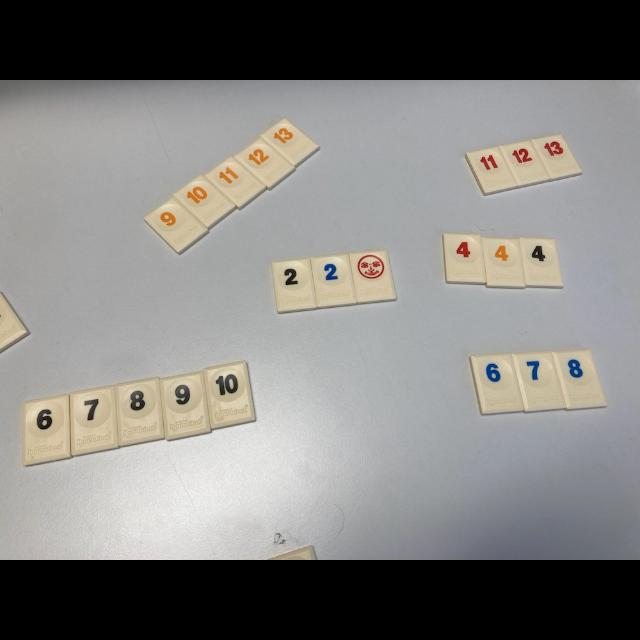black_10: (204, 361, 256, 429)
black_2: (271, 258, 318, 312)
black_4: (519, 238, 564, 288)
black_6: (22, 396, 71, 465)
black_7: (71, 386, 118, 455)
black_8: (115, 378, 163, 446)
black_9: (160, 371, 211, 440)
blue_2: (310, 254, 356, 309)
blue_6: (470, 354, 524, 415)
blue_7: (512, 352, 565, 411)
blue_8: (552, 349, 606, 410)
joker: (349, 250, 396, 304)
orange_10: (174, 175, 235, 228)
orange_11: (205, 156, 265, 209)
orange_12: (236, 139, 295, 189)
orange_13: (261, 118, 319, 166)
orange_4: (483, 238, 526, 288)
orange_9: (144, 198, 208, 254)
red_11: (465, 146, 518, 195)
red_12: (500, 140, 550, 186)
red_13: (531, 134, 582, 180)
red_4: (444, 234, 486, 284)
